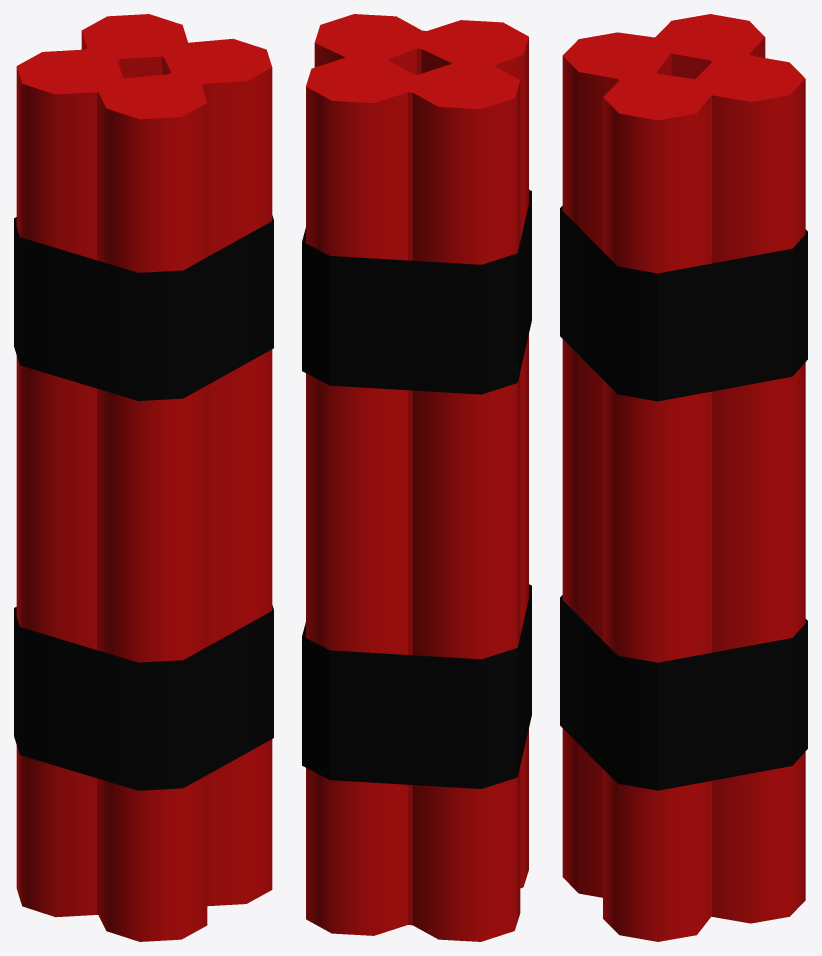
File: Bomb.FBX
The picture shows the model from 3 angles, left to right: view 1: azimuth 30°, elevation 25°; view 2: azimuth 150°, elevation 25°; view 3: azimuth 270°, elevation 25°; orthographic projection.
Parts seen in each view (by area): view 1: Bomb; view 2: Bomb; view 3: Bomb.
Boxes of the visible parts, left/top/right/bottom form: Bomb: left=14, top=14, right=273, bottom=941; Bomb: left=302, top=14, right=531, bottom=941; Bomb: left=560, top=14, right=807, bottom=941.
Bounding box in the file's own units: 7.17 × 25.32 × 6.93.
